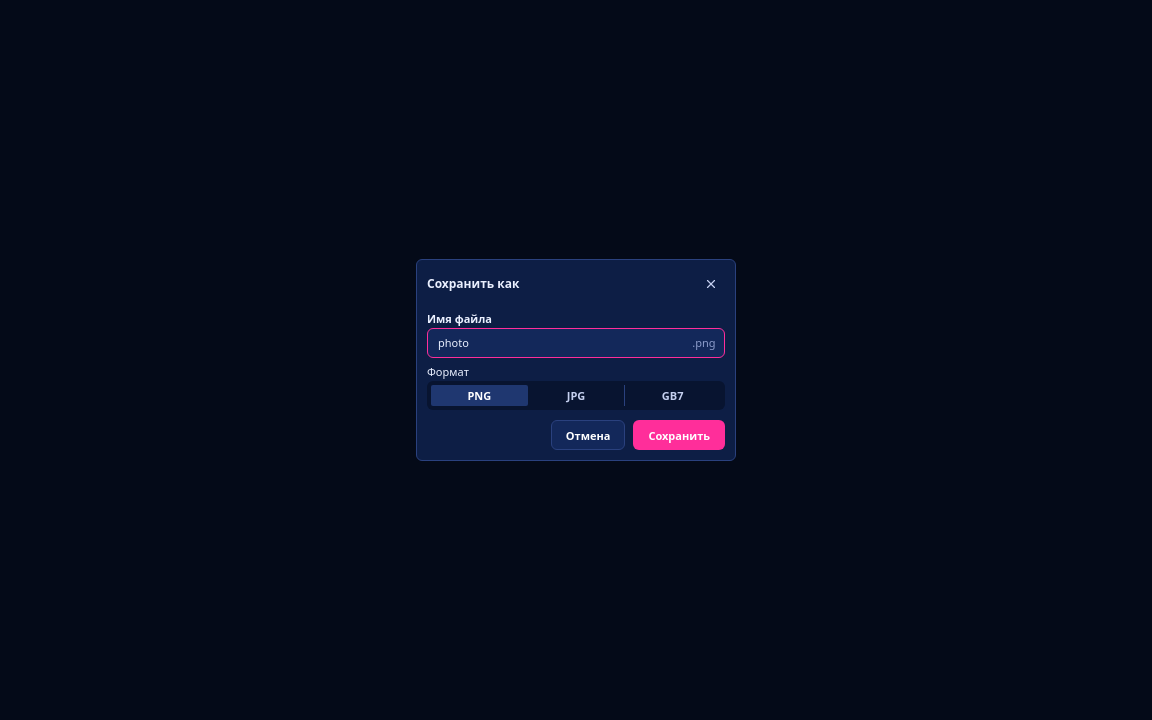
SaveDialog › save error shown inline, dialog stays open; reopen clears it
Click the button "Сохранить".
click(679, 435)  # box [633, 420, 725, 450]
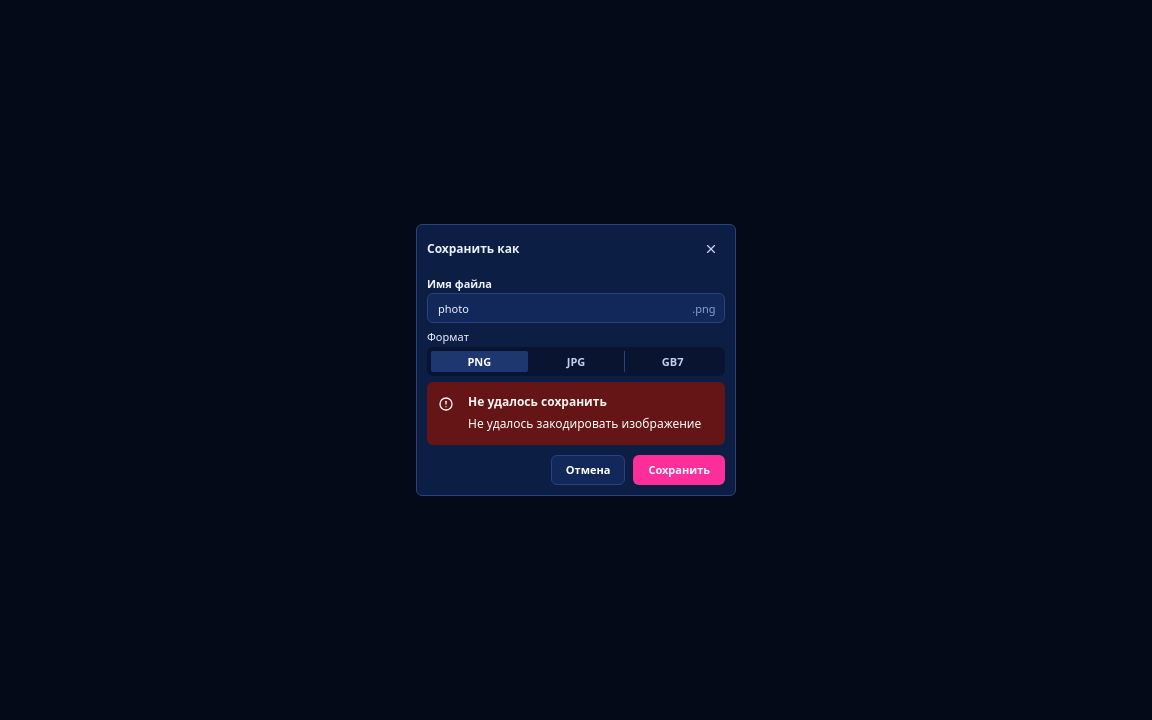
expect the text "Не удалось сохранить" is shown: met, box [468, 393, 607, 411]
